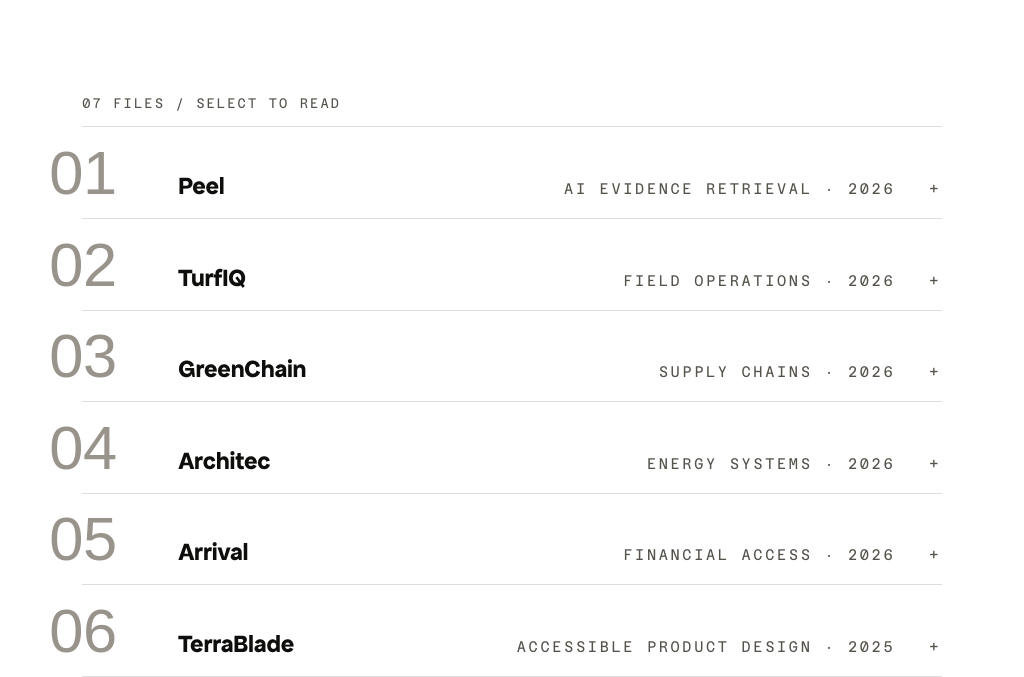
Test case: project archive index › opens and closes a focused row by keyboard-style activation
Click the button "03 GreenChain Supply chains · 2026 +": (242, 369) 82,311 -> 942,401
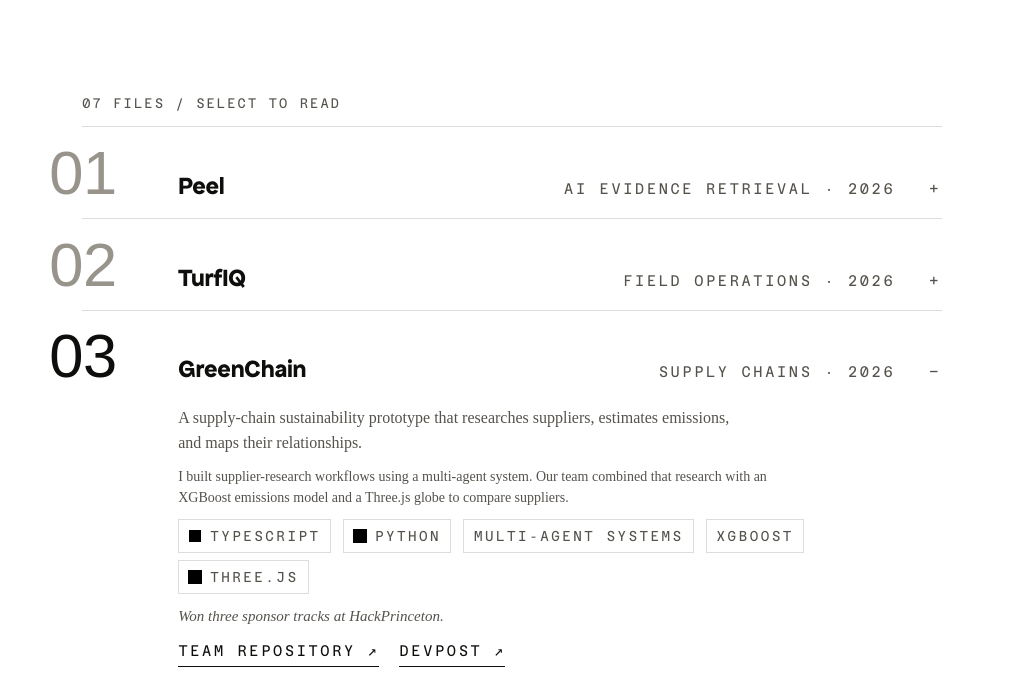
Check: the button "03 GreenChain Supply chains · 2026 −" is expanded
Check: the text "supplier-research workflows" is shown, box 178,469 -> 767,505
Check: the link with aria-label "Team repository for GreenChain" is shown, box 178,638 -> 379,667
Click the button "03 GreenChain Supply chains · 2026 −": (242, 369) 82,311 -> 942,401
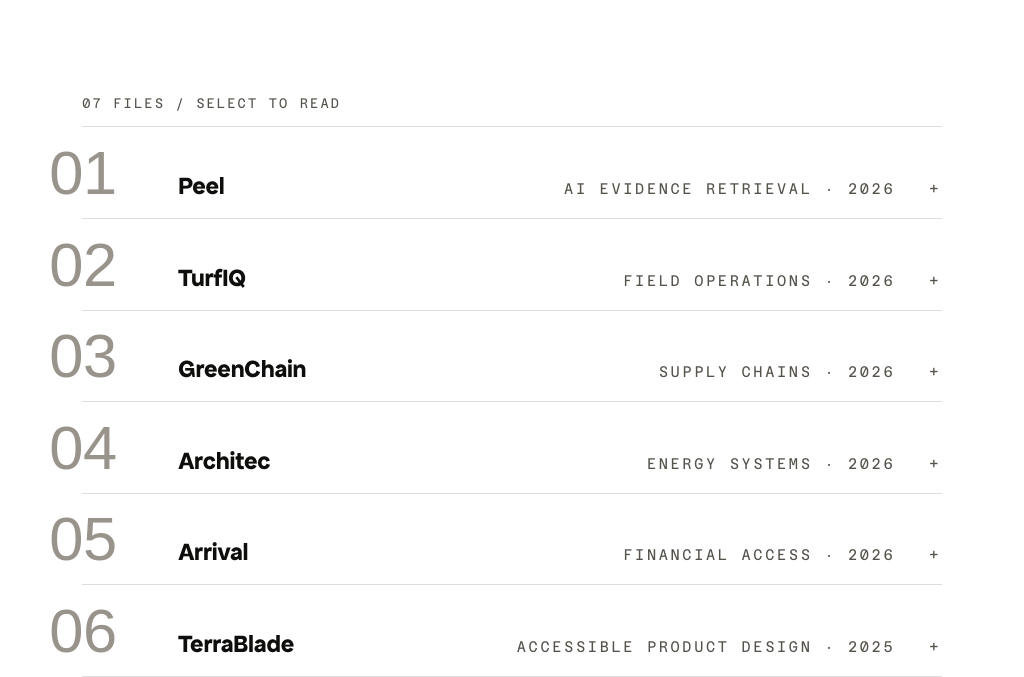
Check: the button "03 GreenChain Supply chains · 2026 +" is collapsed, box 82,311 -> 942,401
